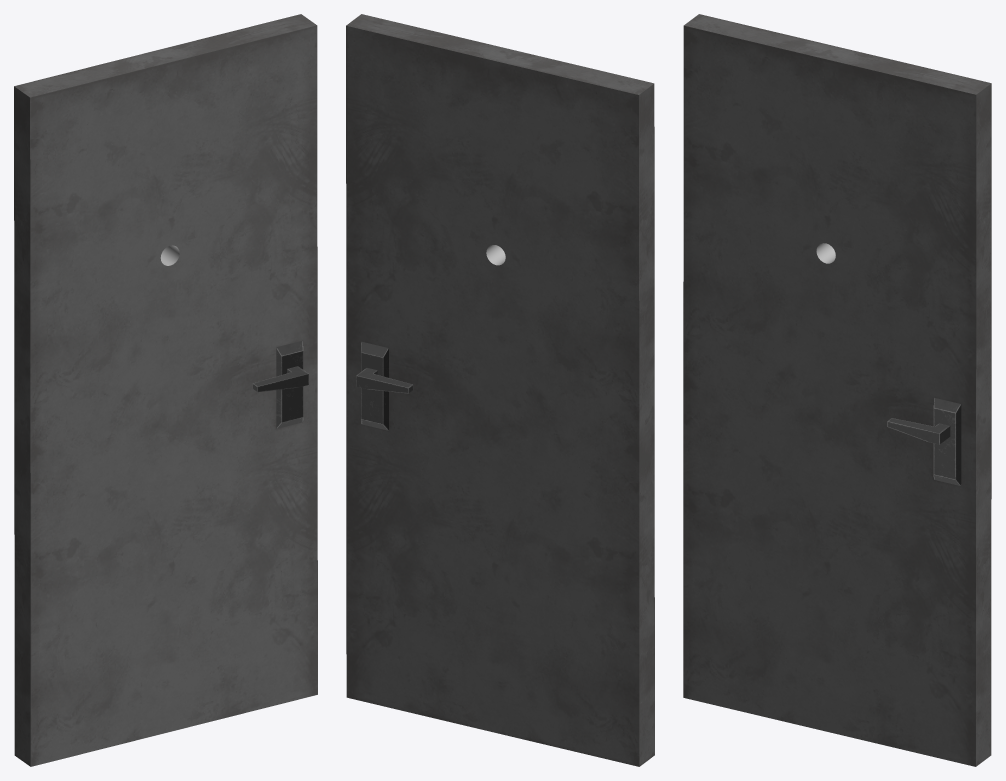
3 views of the same model, side by side, from view 1: azimuth 30°, elevation 25°; view 2: azimuth 150°, elevation 25°; view 3: azimuth 330°, elevation 25° (orthographic).
Visible parts, largest first — view 1: Dr1; view 2: Dr1; view 3: Dr1.
Part boxes in pixels (x1,y1,x2,y2): Dr1: (14, 14, 317, 766); Dr1: (346, 14, 654, 766); Dr1: (683, 14, 991, 766).
Size of the model in its own units: 0.9015 by 1.99 by 0.233.
Materials: 2 (1 with a texture image).
